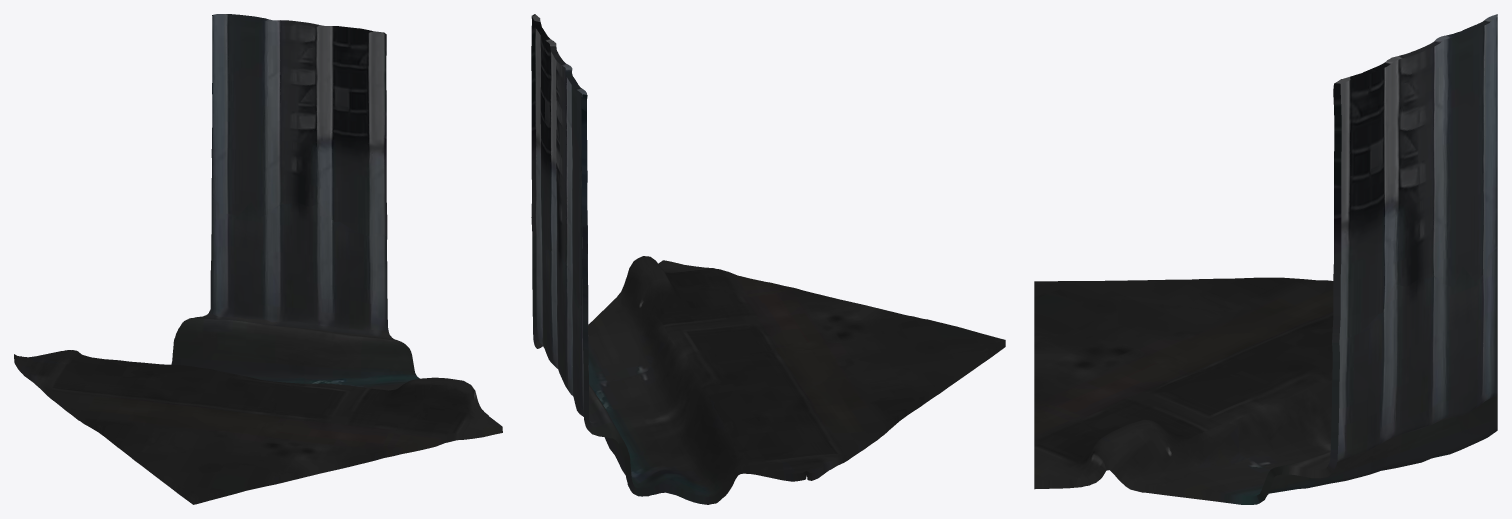
File: z20-167780-405234-h0-yup-uvflip-v3-world.glb
The picture shows the model from 3 angles, left to right: view 1: azimuth 30°, elevation 25°; view 2: azimuth 150°, elevation 25°; view 3: azimuth 270°, elevation 25°; orthographic projection. The views are drawn at different scales.
Bounding box in the file's own units: 30.2 × 32.72 × 30.32.
Materials: 1 (1 with a texture image).
